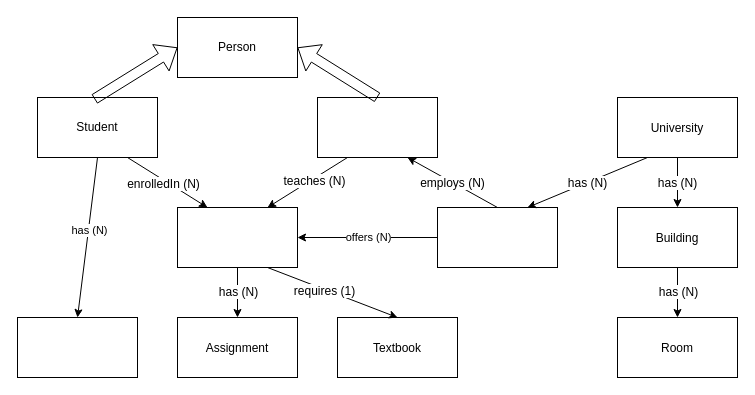
Image size: 755x395. Some labels were removed from this diagram. The shapes that lost their labels are listed below. From the top down, each one's box as (x1, y1, x2, y2) in pixels, then its label:
(316, 96, 438, 158): Professor
(176, 206, 298, 268): Course
(436, 206, 558, 268): Department
(16, 316, 138, 378): Grade
